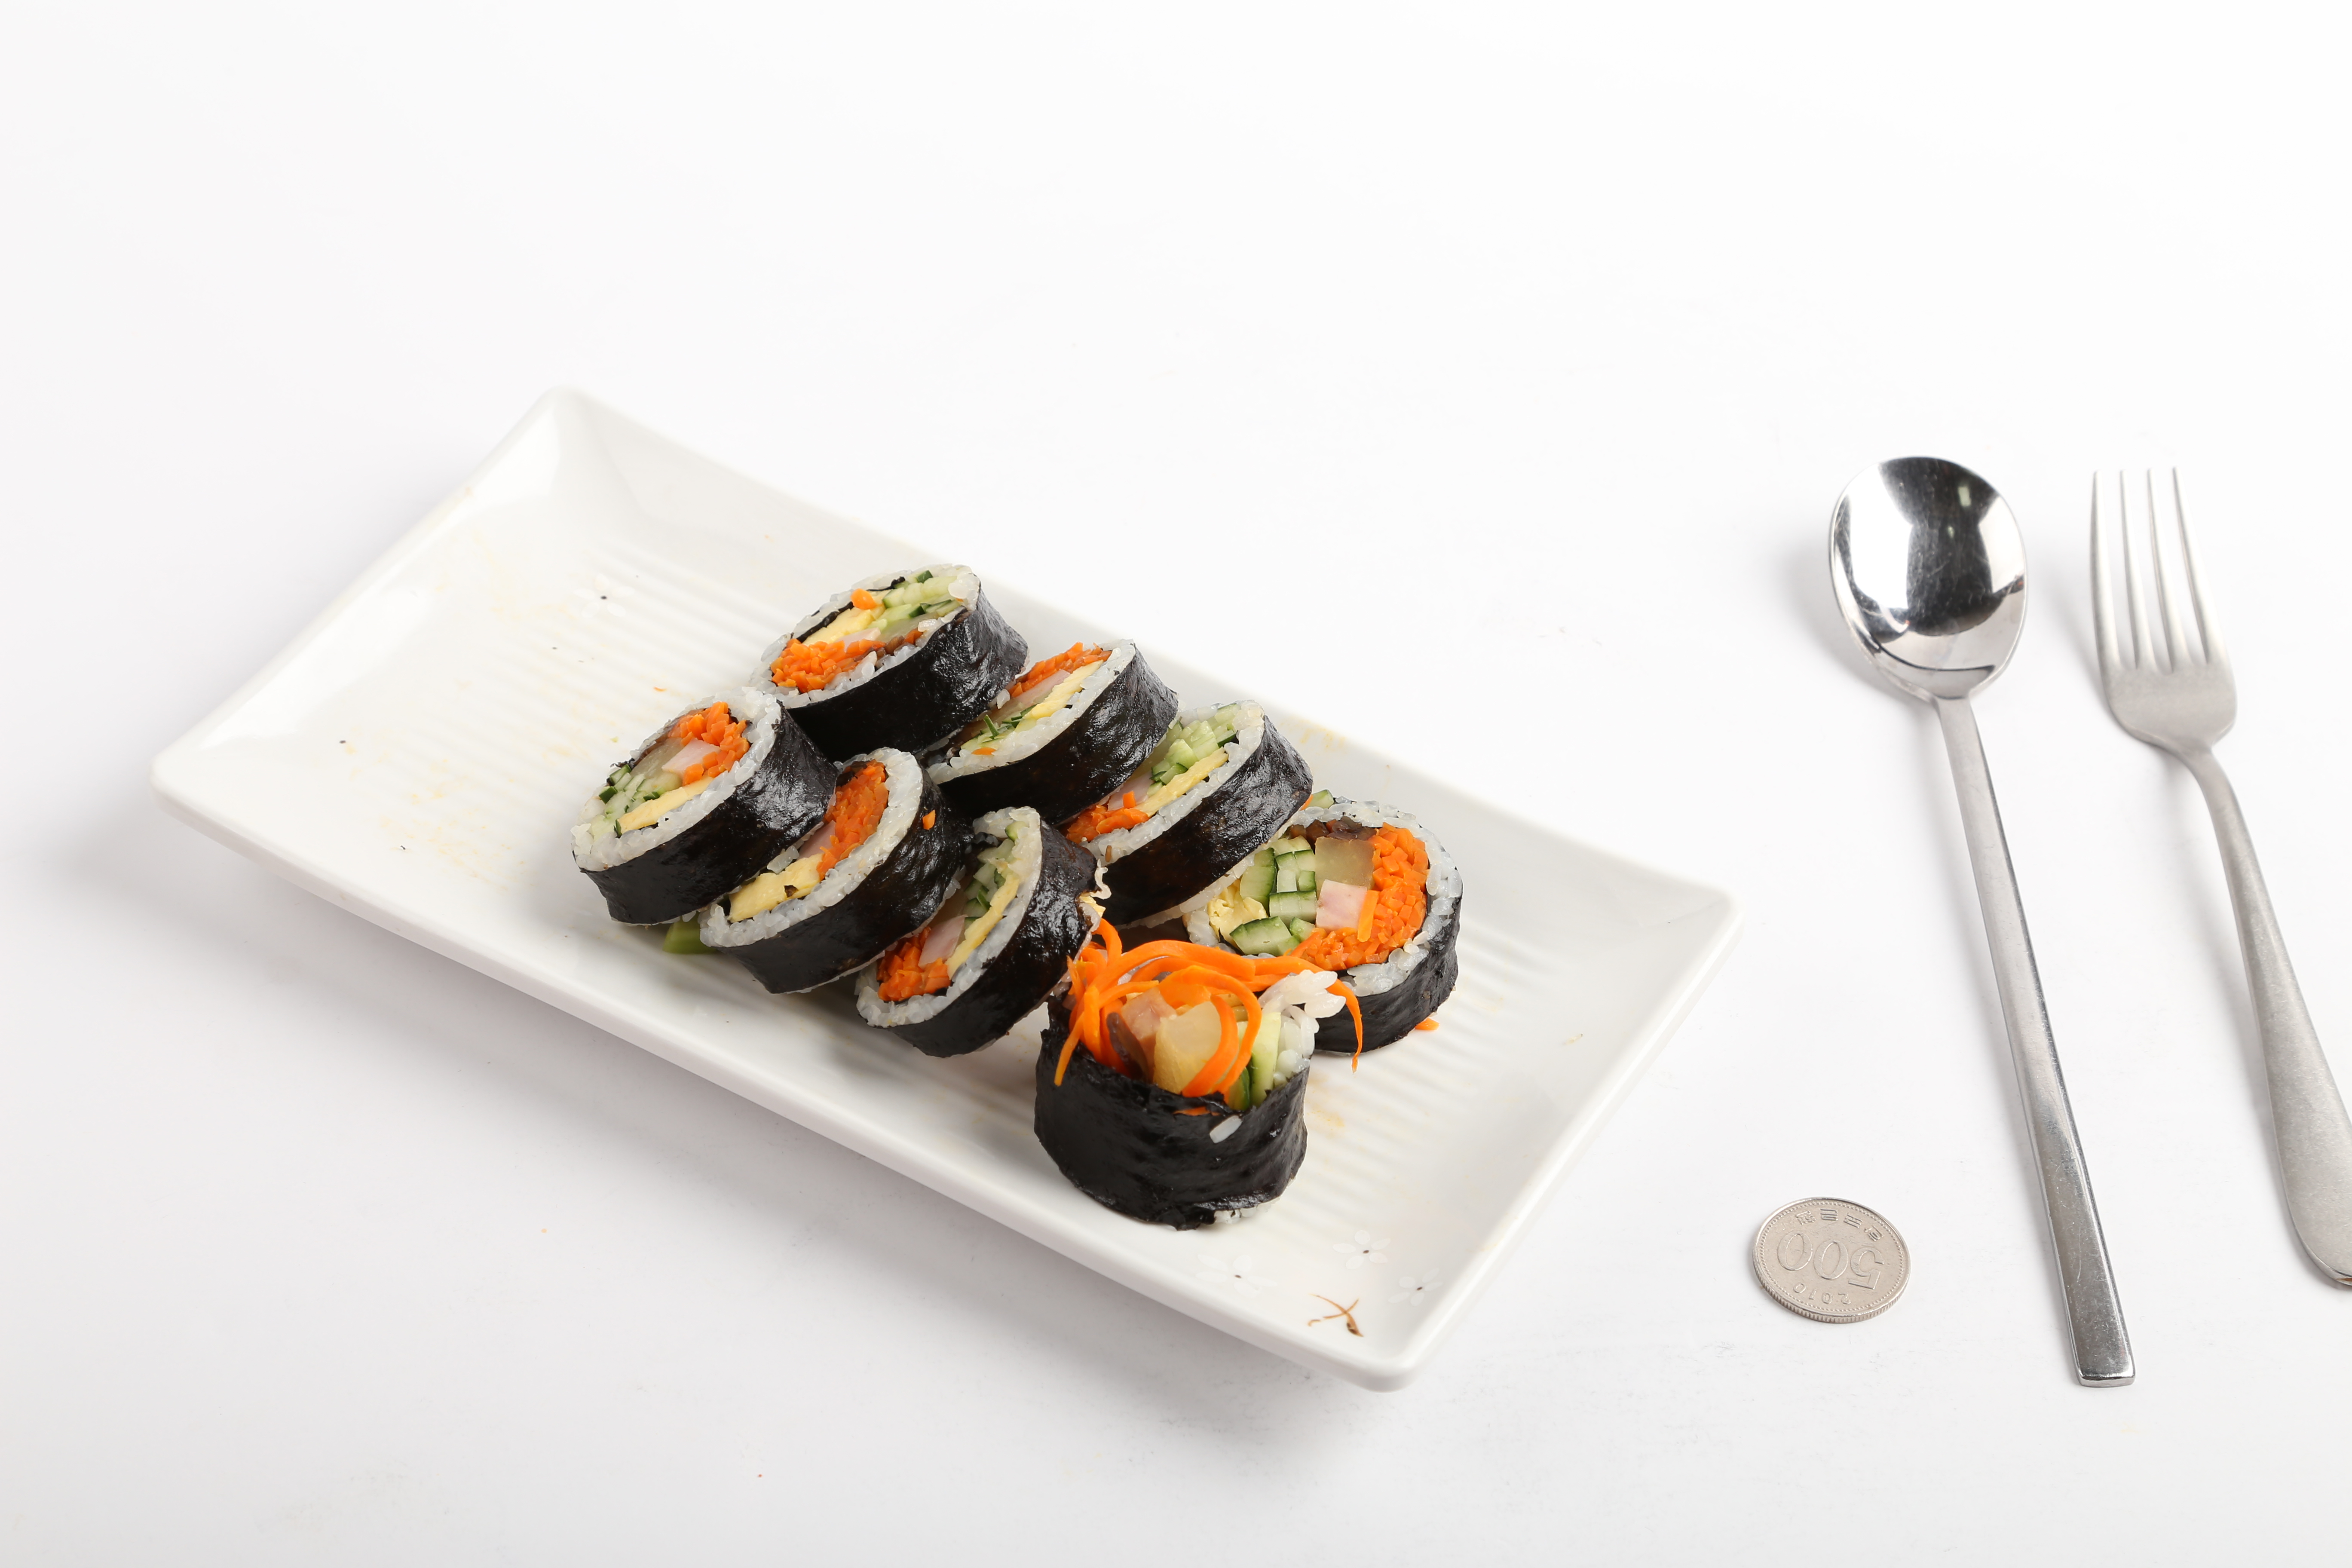dish: (138, 380, 1750, 1396)
ref_coin: (1741, 1185, 1911, 1337)
ref_fork: (2075, 444, 2242, 819)
ref_spoon: (1820, 444, 2028, 759)
김밥: (563, 555, 1475, 1237)
